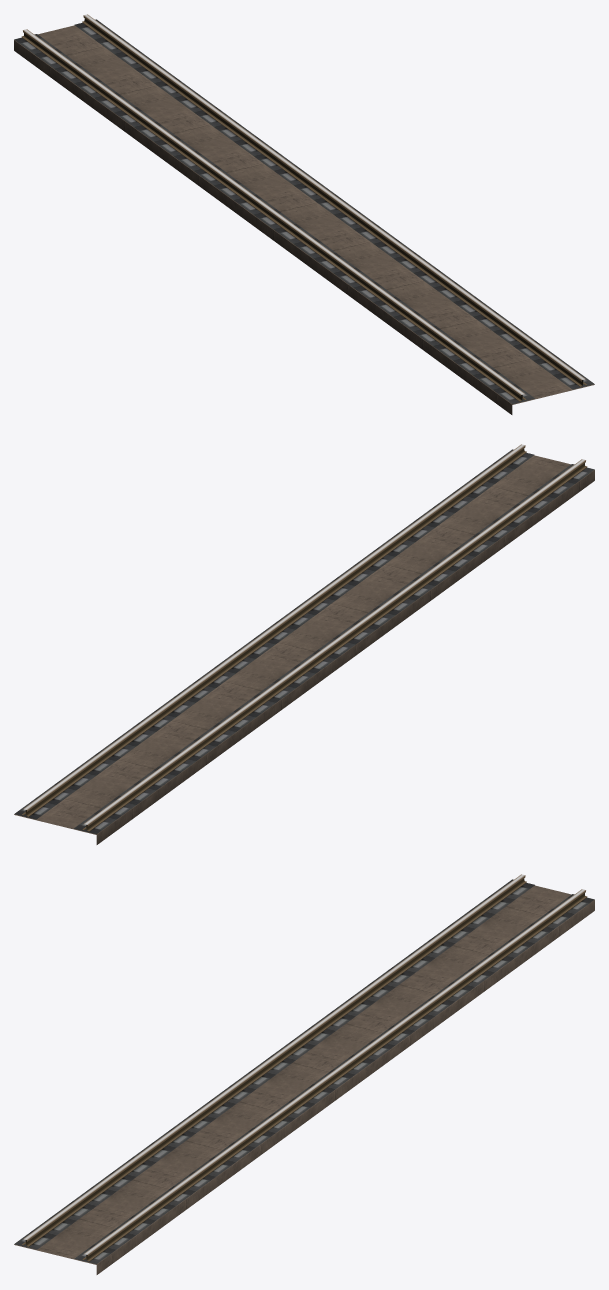
The model's file is MEI_1RAIL_50_CHIKA.glb.
The picture shows the model from 3 angles, top to bottom: view 1: azimuth 30°, elevation 25°; view 2: azimuth 150°, elevation 25°; view 3: azimuth 330°, elevation 25°; orthographic projection.
Visible parts, largest first — view 1: obj31; view 2: obj31; view 3: obj31.
Boxes of the visible parts, left/top/right/bottom form: obj31: left=14, top=14, right=594, bottom=414; obj31: left=14, top=444, right=594, bottom=844; obj31: left=14, top=874, right=594, bottom=1274.
Bounding box in the file's own units: 4.78 × 1.02 × 50.
Materials: 4 (3 with a texture image).
